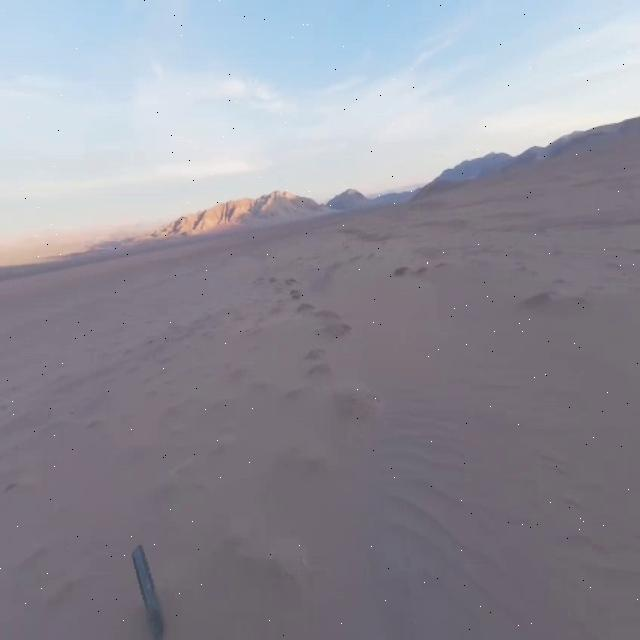Tire: (132, 545, 164, 639)
